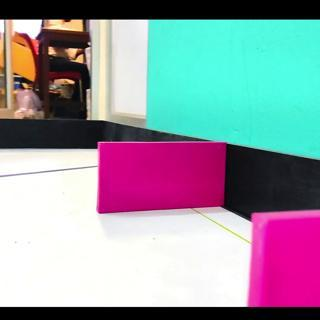xparking: (99, 146, 219, 209), (256, 222, 307, 306)
